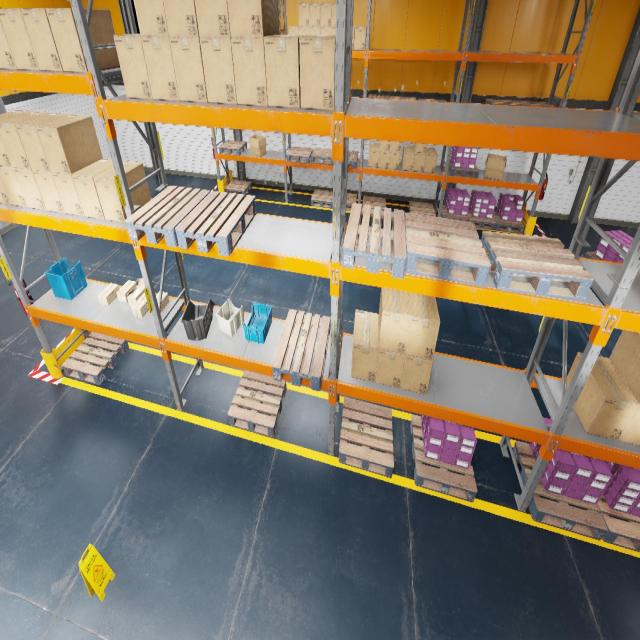box: (566, 352, 640, 440), (45, 8, 120, 72), (36, 114, 102, 174), (93, 160, 151, 222), (264, 34, 309, 108), (15, 113, 71, 171), (0, 112, 53, 170), (72, 158, 122, 219), (300, 34, 336, 110), (609, 358, 640, 446), (21, 8, 64, 71), (113, 33, 153, 99), (230, 37, 268, 106), (140, 36, 180, 101), (169, 36, 208, 102), (199, 37, 237, 104), (0, 8, 40, 70), (405, 292, 440, 360), (609, 330, 640, 403), (378, 287, 411, 354), (351, 310, 379, 382), (227, 0, 280, 37), (0, 110, 34, 167), (51, 172, 85, 216), (13, 168, 47, 210), (32, 170, 65, 213), (194, 0, 230, 37), (163, 0, 199, 37), (401, 355, 433, 395), (134, 0, 168, 36), (0, 165, 28, 207), (375, 349, 405, 388), (0, 18, 17, 69), (484, 154, 506, 180), (127, 278, 145, 306), (98, 283, 119, 305), (116, 280, 137, 302), (131, 293, 149, 318), (151, 291, 169, 313), (249, 135, 266, 157), (401, 145, 415, 171), (413, 147, 426, 172), (424, 148, 437, 172), (354, 25, 366, 50), (0, 178, 11, 204), (298, 2, 310, 25), (368, 143, 379, 167), (388, 150, 401, 170), (321, 2, 332, 25), (310, 2, 320, 25), (378, 150, 390, 168), (414, 143, 427, 153), (390, 141, 401, 151), (380, 140, 390, 150), (288, 25, 299, 34), (332, 2, 336, 25), (321, 26, 331, 34), (310, 26, 320, 34), (299, 26, 309, 34), (352, 26, 355, 49), (332, 26, 335, 34)
pallets: (513, 440, 607, 540), (481, 231, 594, 301), (404, 212, 490, 288), (410, 414, 477, 502), (175, 191, 256, 256), (125, 186, 210, 247), (342, 202, 407, 278), (272, 309, 330, 391), (338, 397, 394, 478), (228, 370, 286, 438), (62, 332, 129, 385), (597, 491, 640, 552), (493, 211, 525, 233), (467, 209, 497, 230), (448, 159, 479, 178), (286, 146, 313, 164), (441, 205, 469, 221), (225, 180, 252, 196), (219, 140, 247, 155), (408, 201, 436, 216), (311, 189, 333, 208), (311, 148, 333, 164), (362, 196, 386, 210), (516, 100, 558, 107), (486, 99, 526, 106), (348, 150, 358, 169), (346, 193, 357, 210), (584, 250, 601, 260), (418, 98, 447, 102), (368, 94, 389, 99), (390, 96, 416, 100)
